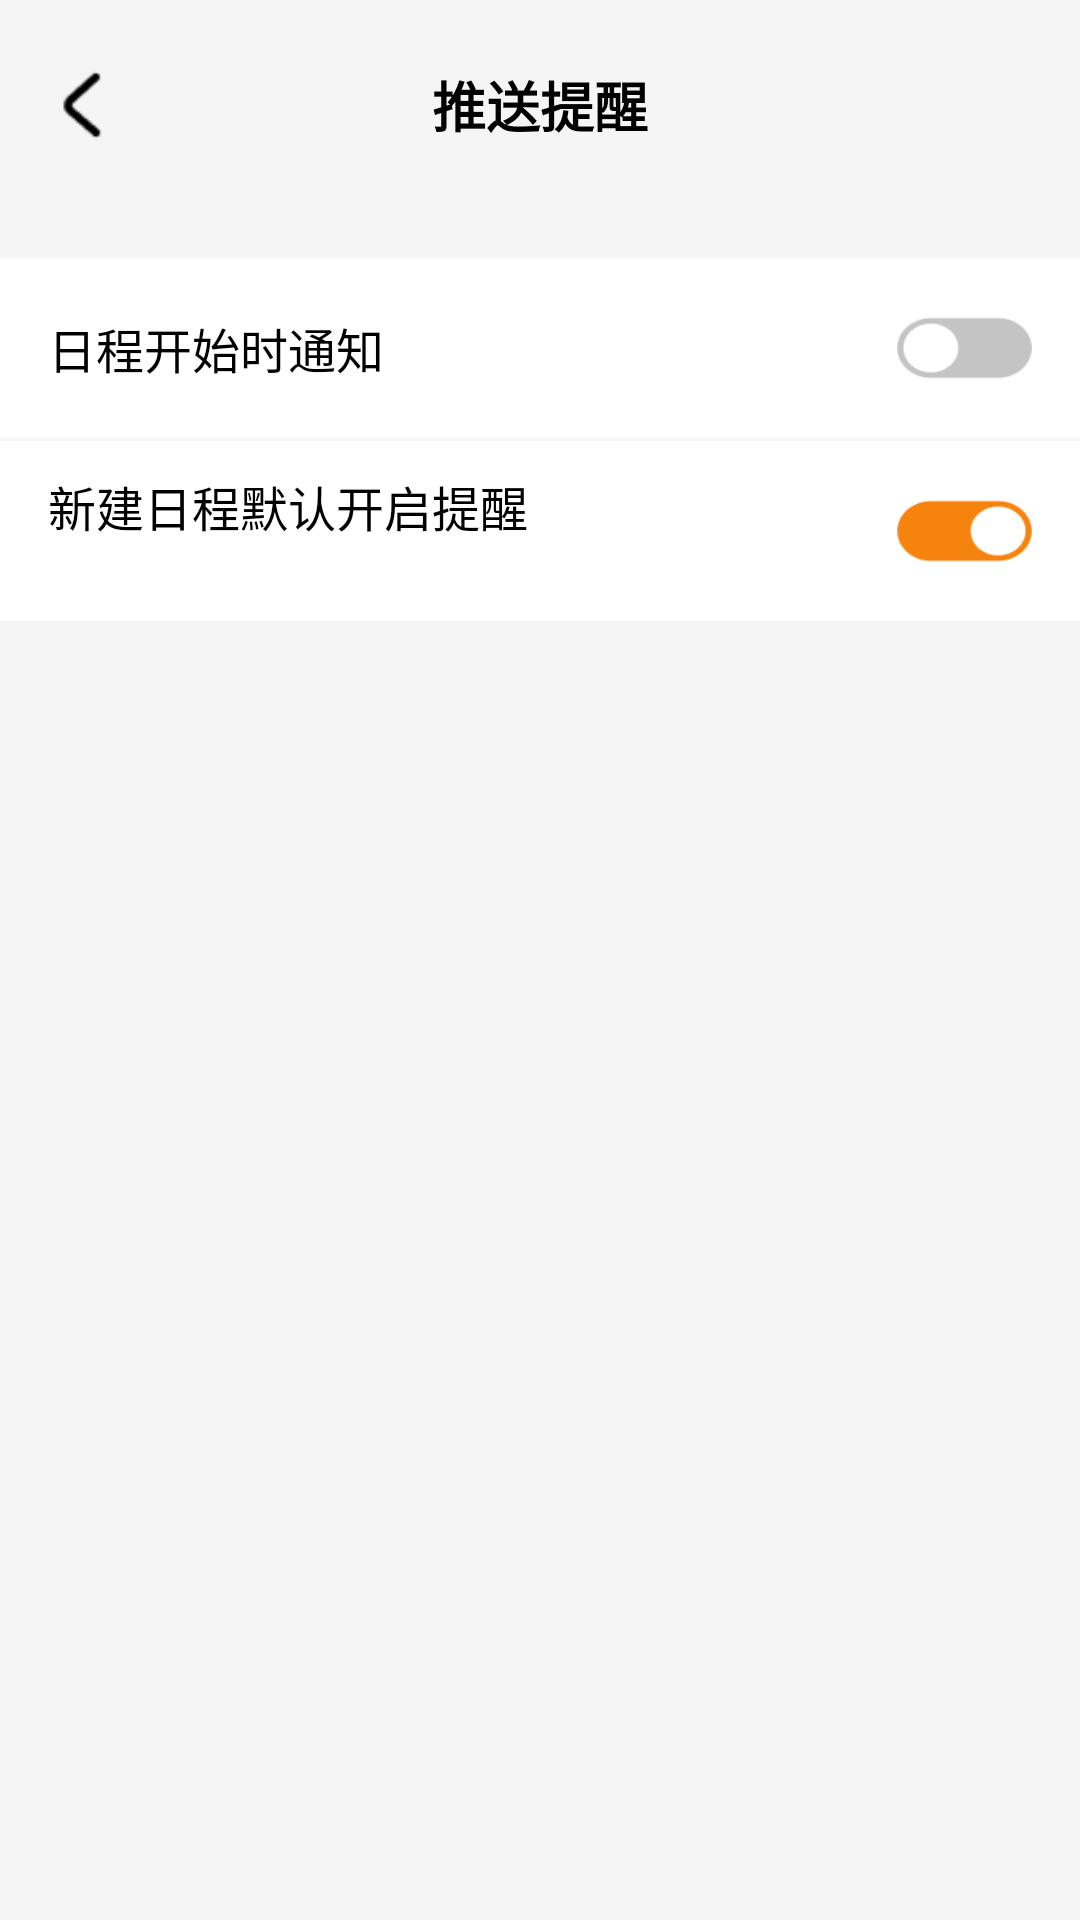

Screen size 1080w x 1920h. Icon name, then its box in pixels as rect(x1, y1, x2, y2):
switch off: rect(897, 318, 1032, 378)
switch open: rect(897, 500, 1032, 562)
返回按钮: rect(63, 72, 101, 138)
